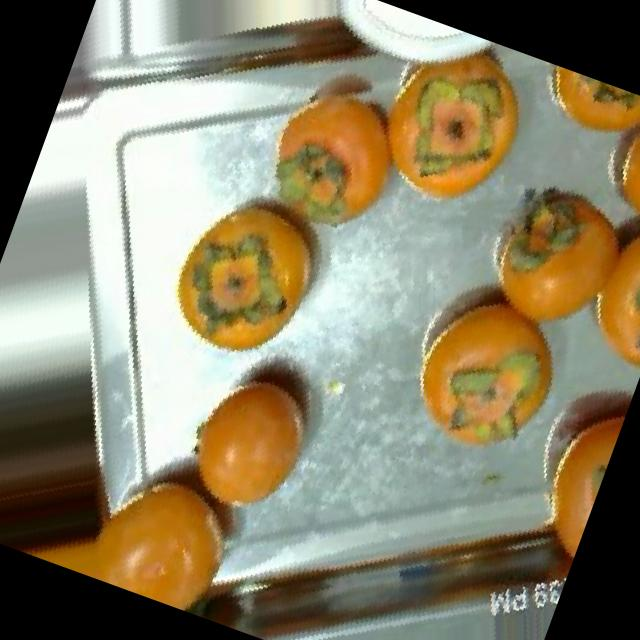Fruit: (134, 132, 373, 404), (228, 18, 447, 274), (338, 9, 563, 241), (148, 317, 356, 556), (521, 61, 640, 168), (568, 235, 640, 387)
